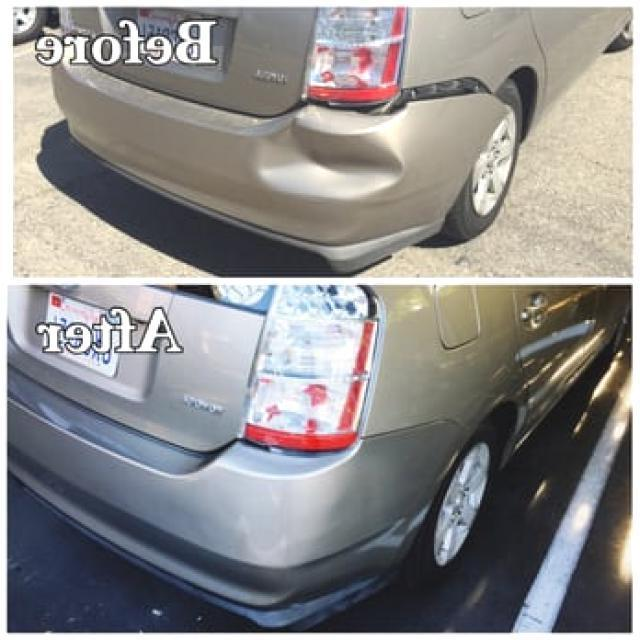minor: (237, 118, 417, 207)
